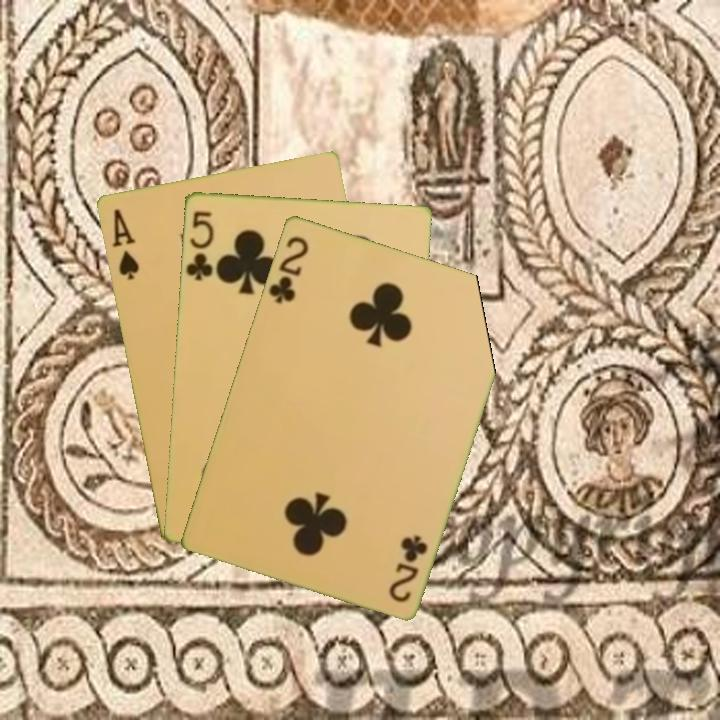2c: (265, 232, 311, 306), (384, 531, 430, 605)
5c: (183, 207, 216, 284)
As: (108, 205, 142, 283)
